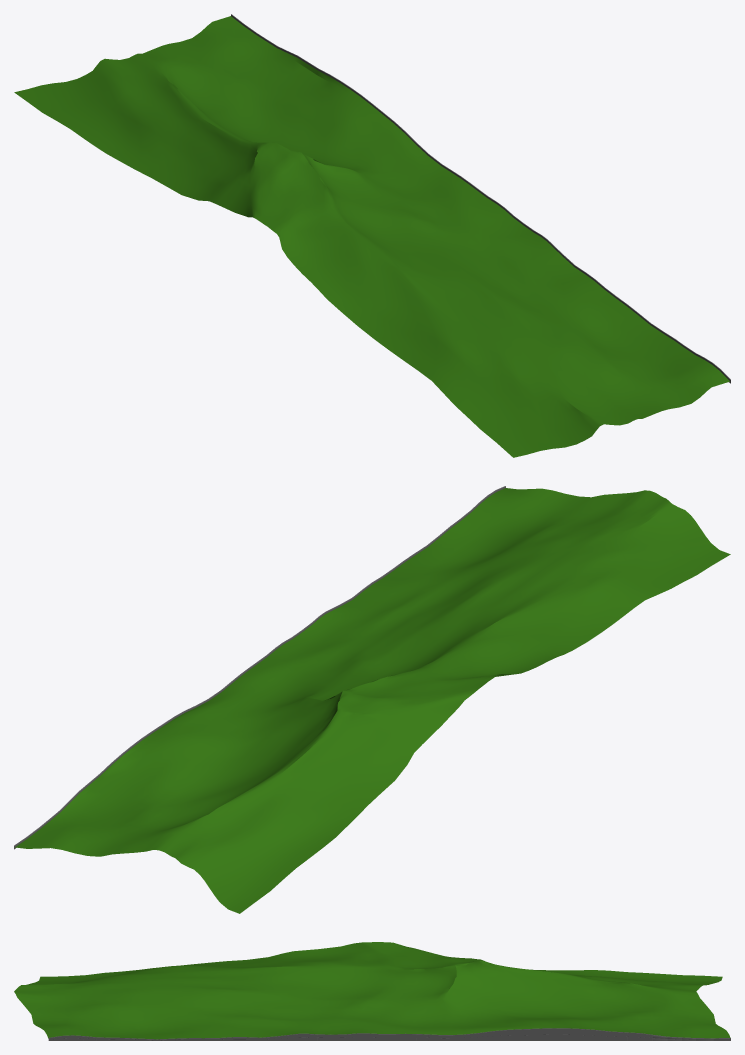
The model's file is mountain_2.fbx.
The picture shows the model from 3 angles, top to bottom: view 1: azimuth 30°, elevation 25°; view 2: azimuth 150°, elevation 25°; view 3: azimuth 270°, elevation 25°; orthographic projection. The views are drawn at different scales.
Visible parts, largest first — view 1: Plane.001; view 2: Plane.001; view 3: Plane.001.
Part boxes in pixels (left/top/right/bottom): Plane.001: left=14, top=14, right=730, bottom=457; Plane.001: left=14, top=486, right=730, bottom=913; Plane.001: left=14, top=942, right=730, bottom=1040.
Size of the model in its own units: 39449 by 154387 by 10078.
